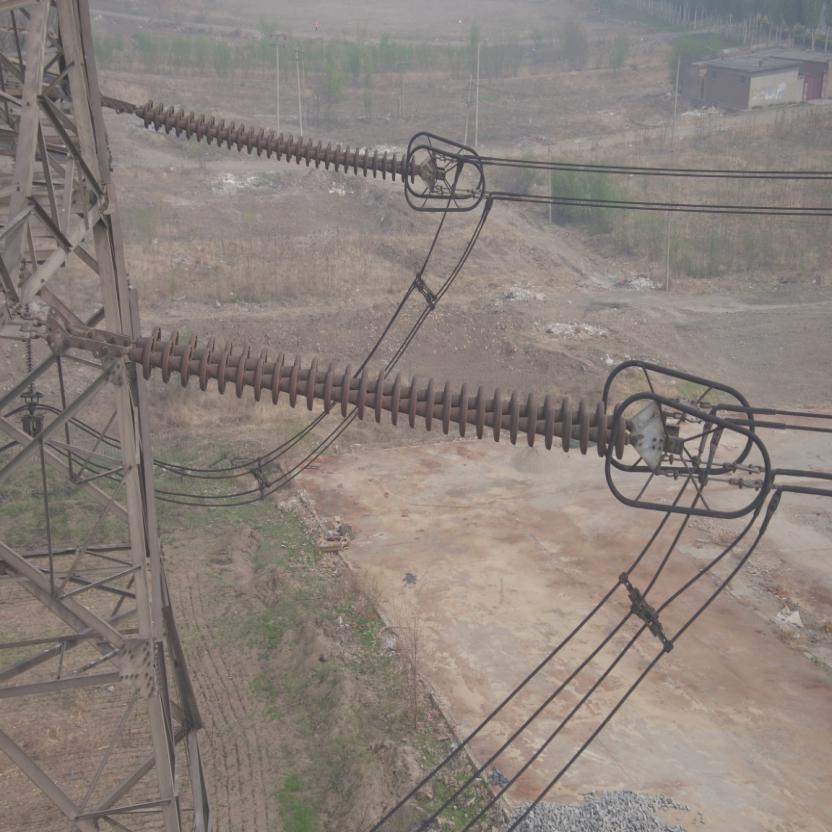insulator: (96, 324, 641, 465), (116, 95, 419, 185)
